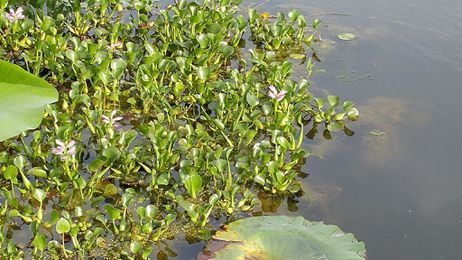water_hyacinth: (204, 0, 366, 229)
